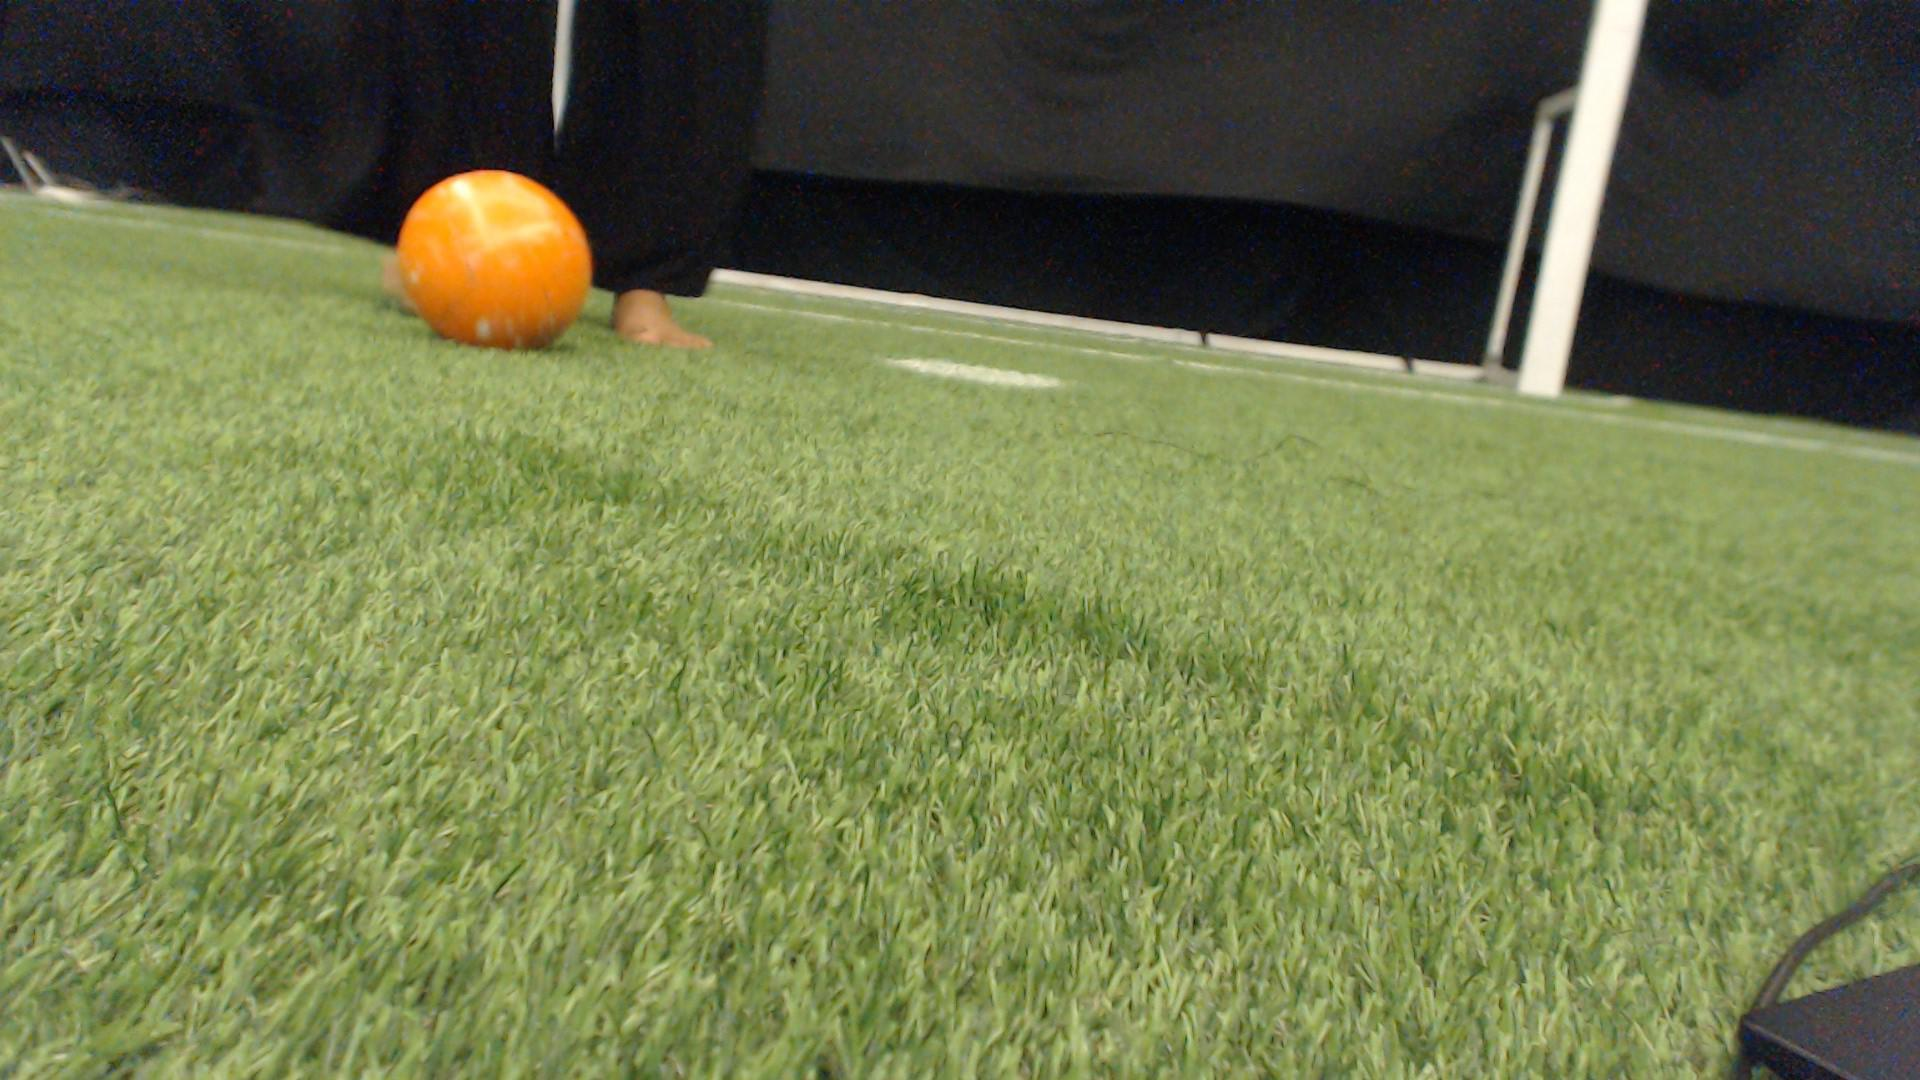bola: (381, 169, 612, 355)
